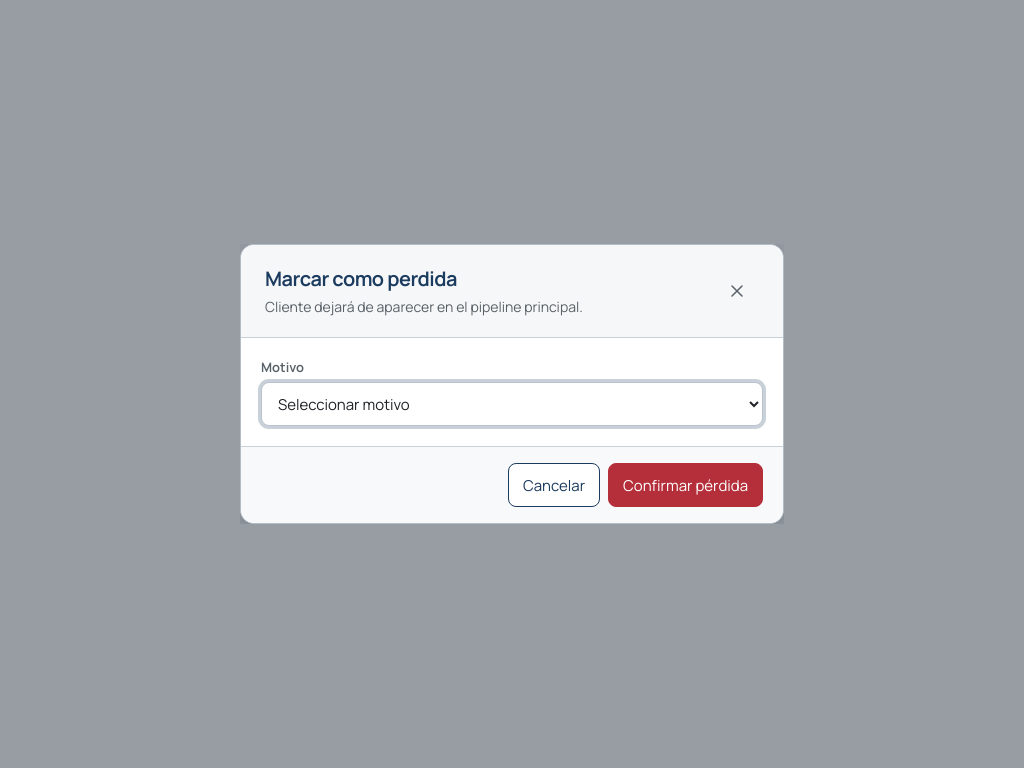
Test case: LossModal › uses the generic error when the rejected value is not an Error
Step 1. Select "Precio" in the dropdown labelled "Motivo" → (512, 404), box [261,382,763,426]
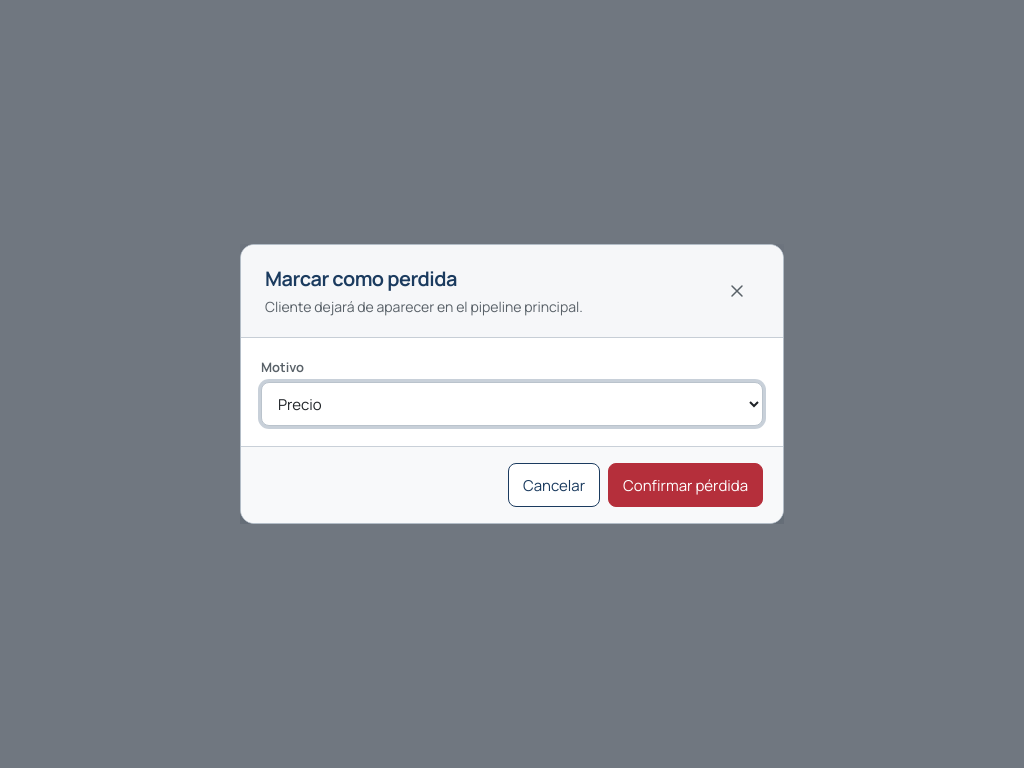
Step 2. Click the button "Confirmar pérdida" → (686, 485), box [608,463,763,507]
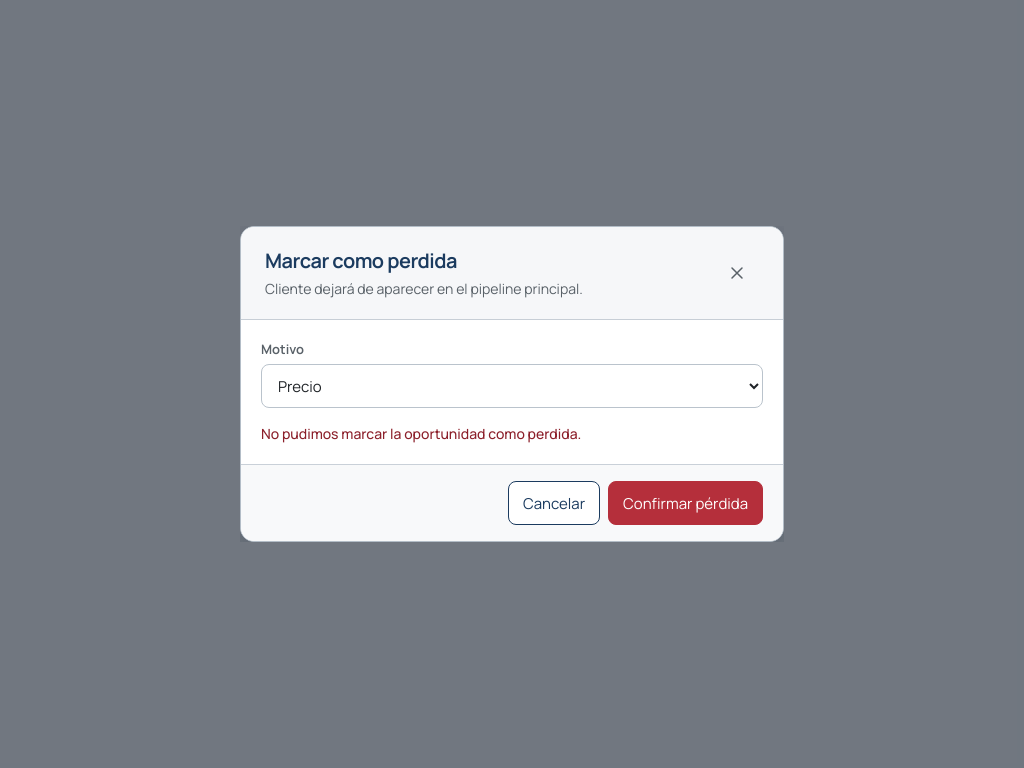
Expected: the message reads "No pudimos marcar la oportunidad como perdida.", [261,424,581,443]
